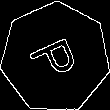P_NE: (25, 30, 86, 85)
